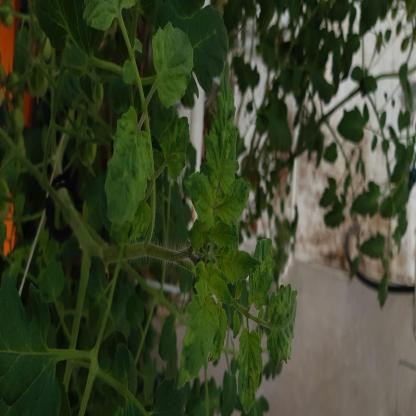T_L_H: (179, 261, 231, 387), (105, 106, 154, 225), (206, 62, 239, 194), (153, 24, 194, 108)
